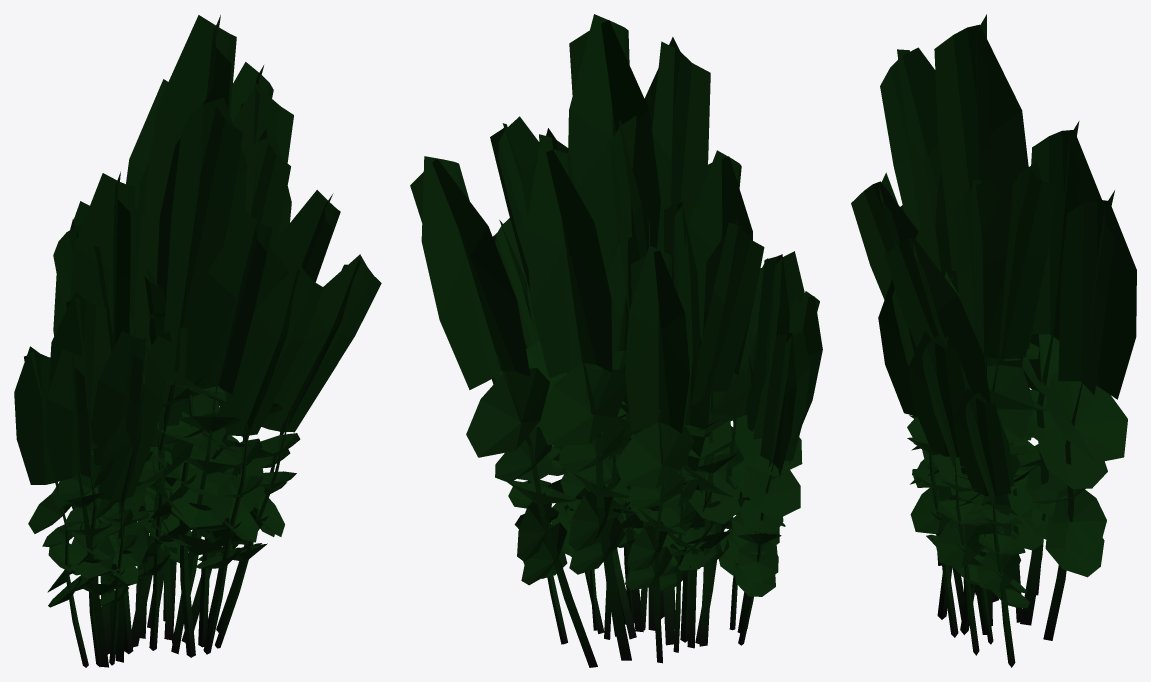
The model's file is plant2.fbx.
The picture shows the model from 3 angles, left to right: view 1: azimuth 30°, elevation 25°; view 2: azimuth 150°, elevation 25°; view 3: azimuth 270°, elevation 25°; orthographic projection.
Parts seen in each view (by area): view 1: branch.015, branch.023, branch.006, branch.043, branch.001, branch.037, branch.008, branch.028, branch.033, branch.009, branch.041, branch.030 (+12 smaller); view 2: branch.003, branch.042, branch.011, branch.001, branch.014, branch.033, branch.008, branch.015, branch.028, branch.004, branch.044, branch.002 (+9 smaller); view 3: branch.042, branch.001, branch.044, branch.003, branch.043, branch.015, branch.039, branch.041, branch.012, branch.006, branch.023, branch.002 (+2 smaller).
Boxes of the visible parts, x1,y1,x2,y2 form: branch.015: [131, 87, 247, 647]; branch.023: [171, 212, 272, 654]; branch.006: [195, 262, 323, 654]; branch.043: [215, 254, 381, 648]; branch.001: [144, 15, 236, 640]; branch.037: [46, 348, 119, 667]; branch.008: [69, 171, 148, 637]; branch.028: [48, 291, 117, 666]; branch.033: [14, 346, 88, 667]; branch.009: [91, 330, 149, 662]; branch.041: [181, 190, 340, 642]; branch.030: [98, 382, 163, 665]; branch.003: [520, 145, 631, 660]; branch.042: [410, 156, 597, 667]; branch.011: [615, 245, 694, 663]; branch.001: [568, 14, 660, 632]; branch.014: [682, 217, 764, 646]; branch.033: [734, 331, 810, 645]; branch.008: [667, 150, 752, 648]; branch.015: [622, 37, 710, 645]; branch.028: [728, 251, 804, 633]; branch.004: [653, 197, 731, 642]; branch.044: [490, 116, 628, 624]; branch.002: [583, 235, 640, 639]; branch.042: [1031, 190, 1136, 640]; branch.001: [934, 14, 1040, 517]; branch.044: [950, 154, 1057, 634]; branch.003: [1020, 121, 1101, 625]; branch.043: [908, 331, 990, 655]; branch.015: [880, 47, 998, 602]; branch.039: [953, 388, 1029, 667]; branch.041: [885, 228, 1003, 634]; branch.012: [954, 179, 1034, 626]; branch.006: [878, 279, 960, 637]; branch.023: [851, 172, 964, 620]; branch.002: [1007, 334, 1042, 622].
Size of the model in its own units: 99.14 by 177 by 72.3.
